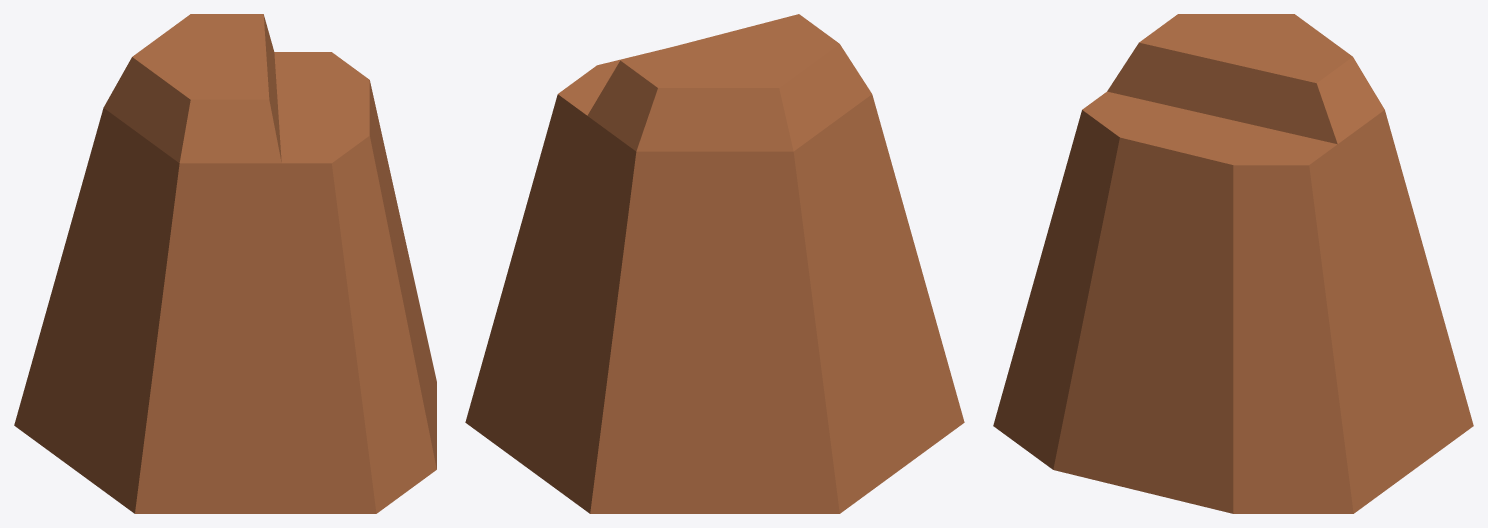
The model's file is stone_tallE_brown.obj.
3 renders of one model, left to right at view 1: azimuth 30°, elevation 25°; view 2: azimuth 150°, elevation 25°; view 3: azimuth 270°, elevation 25°, orthographic. The views are drawn at different scales.
Visible parts, largest first — view 1: stone_tallE_brown; view 2: stone_tallE_brown; view 3: stone_tallE_brown.
Part boxes in pixels (<box>): stone_tallE_brown: <box>14,14,436,513</box>; stone_tallE_brown: <box>465,14,964,513</box>; stone_tallE_brown: <box>993,14,1473,513</box>.
Bounding box in the file's own units: 0.4562 × 0.4438 × 0.5268.
